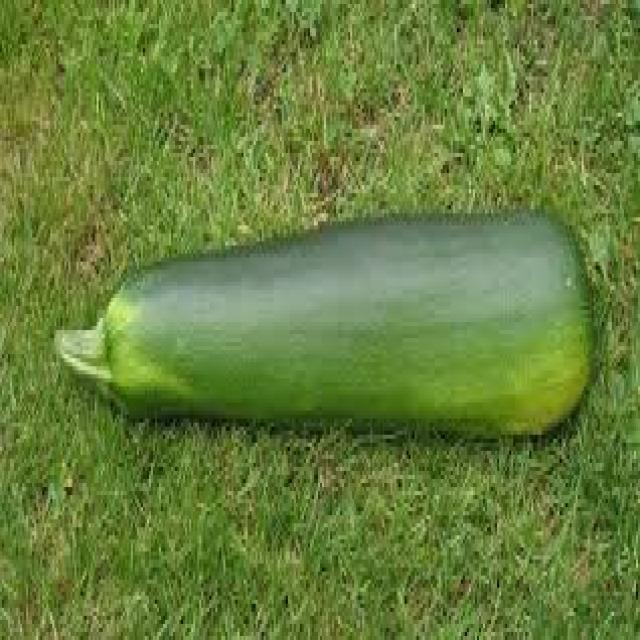Zucchini: (74, 252, 574, 415)
